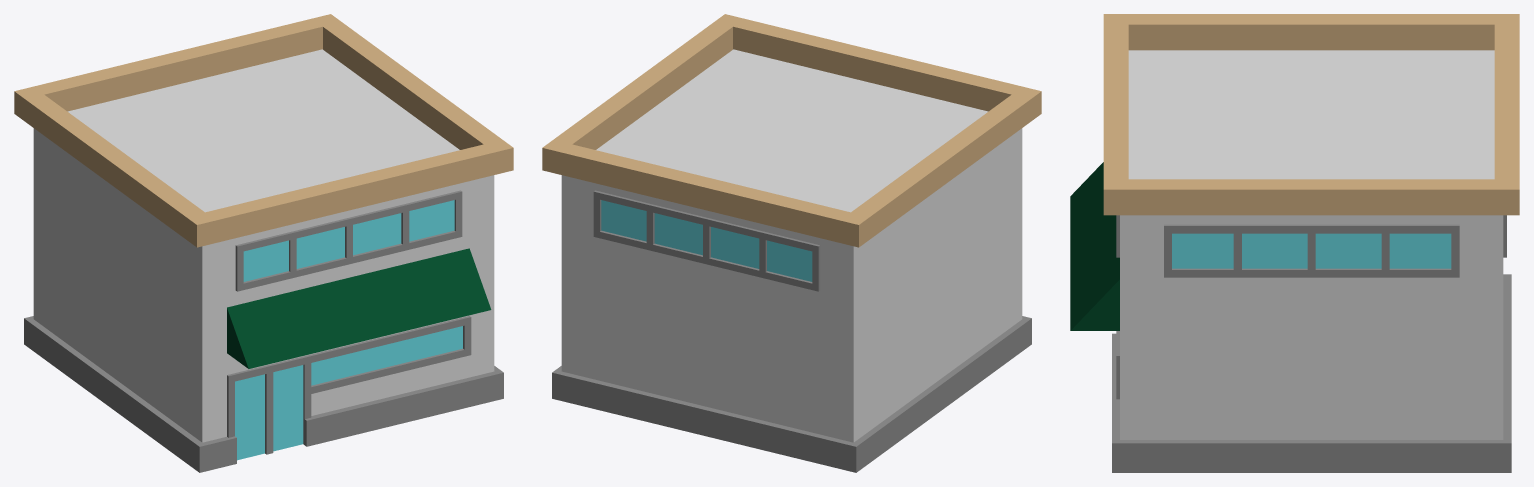
File: Coffee.fbx
3 renders of one model, left to right at view 1: azimuth 30°, elevation 25°; view 2: azimuth 150°, elevation 25°; view 3: azimuth 270°, elevation 25°, orthographic. The views are drawn at different scales.
Visible parts, largest first — view 1: Model; view 2: Model; view 3: Model.
Part boxes in pixels (<box>): Model: <box>14,14,513,472</box>; Model: <box>542,14,1041,472</box>; Model: <box>1070,14,1519,472</box>.
Bounding box in the file's own units: 129 × 97.75 × 139.
